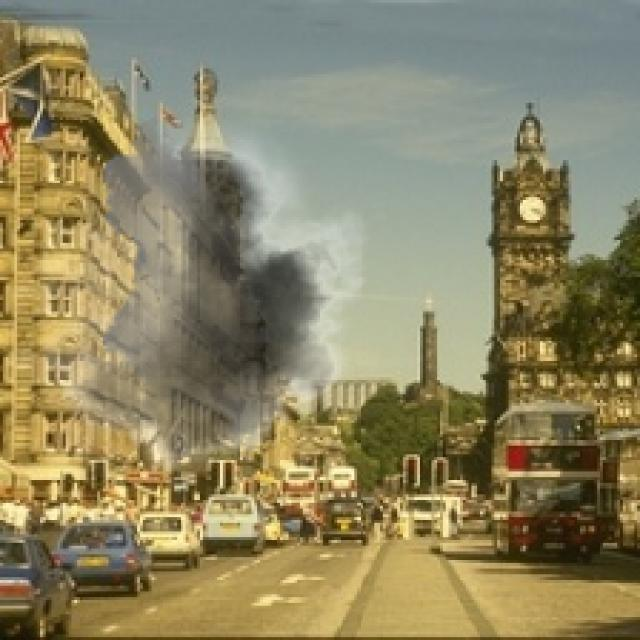Smoke: (0, 117, 386, 494)
